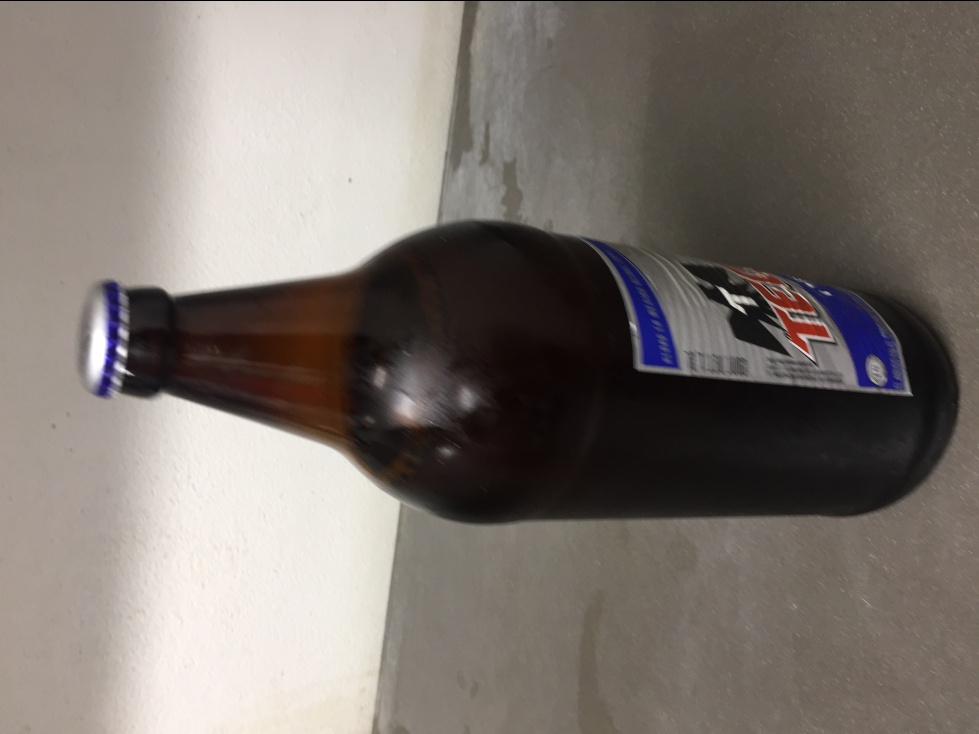tecateC: (72, 219, 960, 532)
